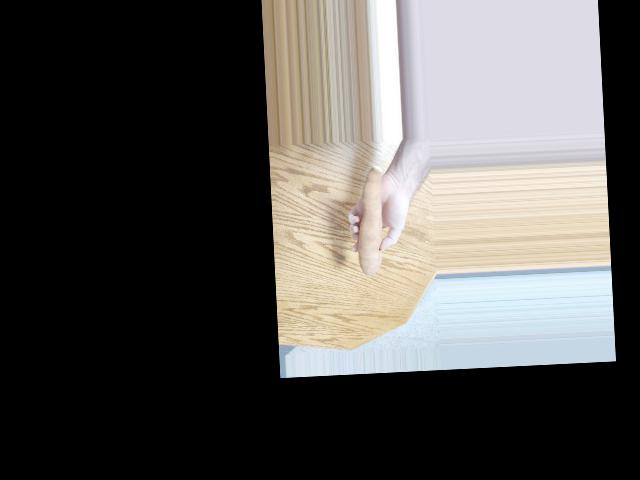sweet_potato: (346, 169, 385, 280)
